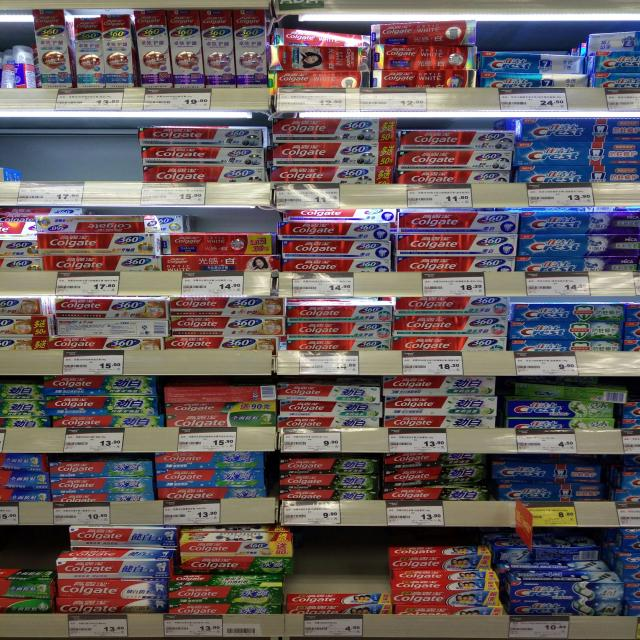void: (0, 127, 133, 180)
